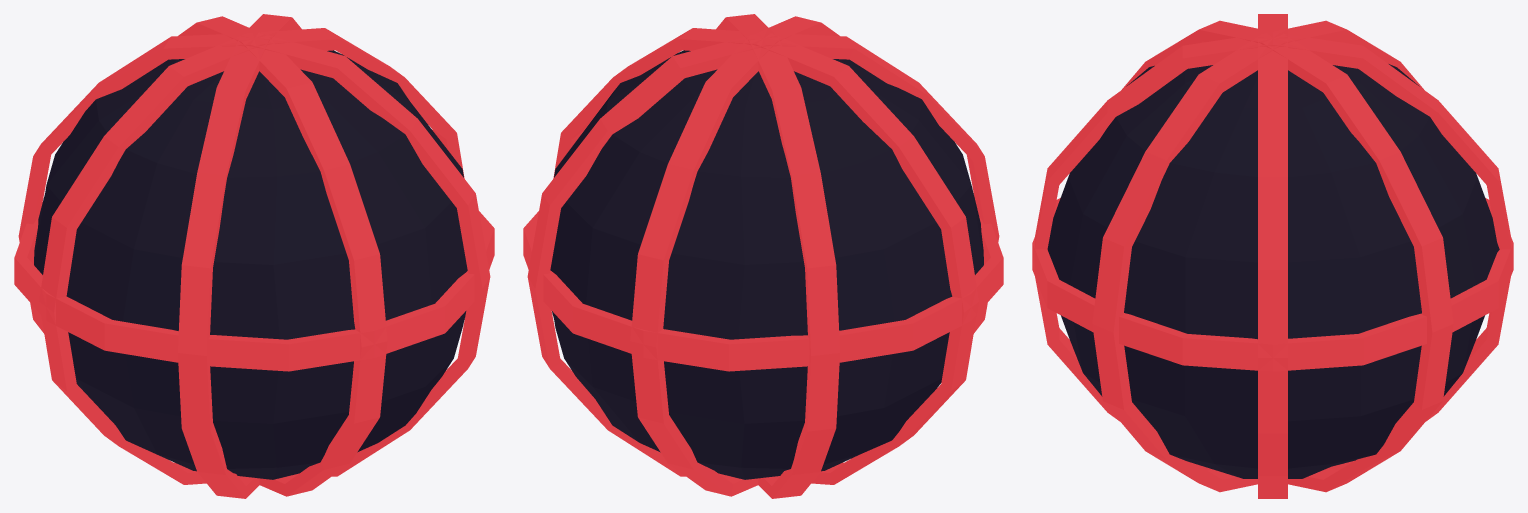
3 renders of one model, left to right at view 1: azimuth 30°, elevation 25°; view 2: azimuth 150°, elevation 25°; view 3: azimuth 270°, elevation 25°, orthographic.
Visible parts, largest first — view 1: Sphere; view 2: Sphere; view 3: Sphere.
Part boxes in pixels (x1=…): Sphere: x1=14, y1=14, x2=494, y2=498; Sphere: x1=523, y1=14, x2=1003, y2=498; Sphere: x1=1032, y1=14, x2=1513, y2=498.
Bounding box in the file's own units: 1.03 × 1.03 × 1.03.
